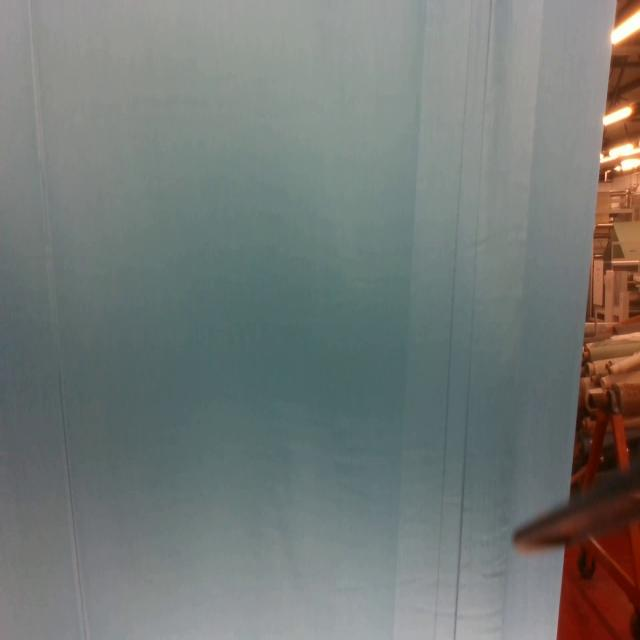crease: (28, 0, 91, 640), (433, 0, 492, 639)
